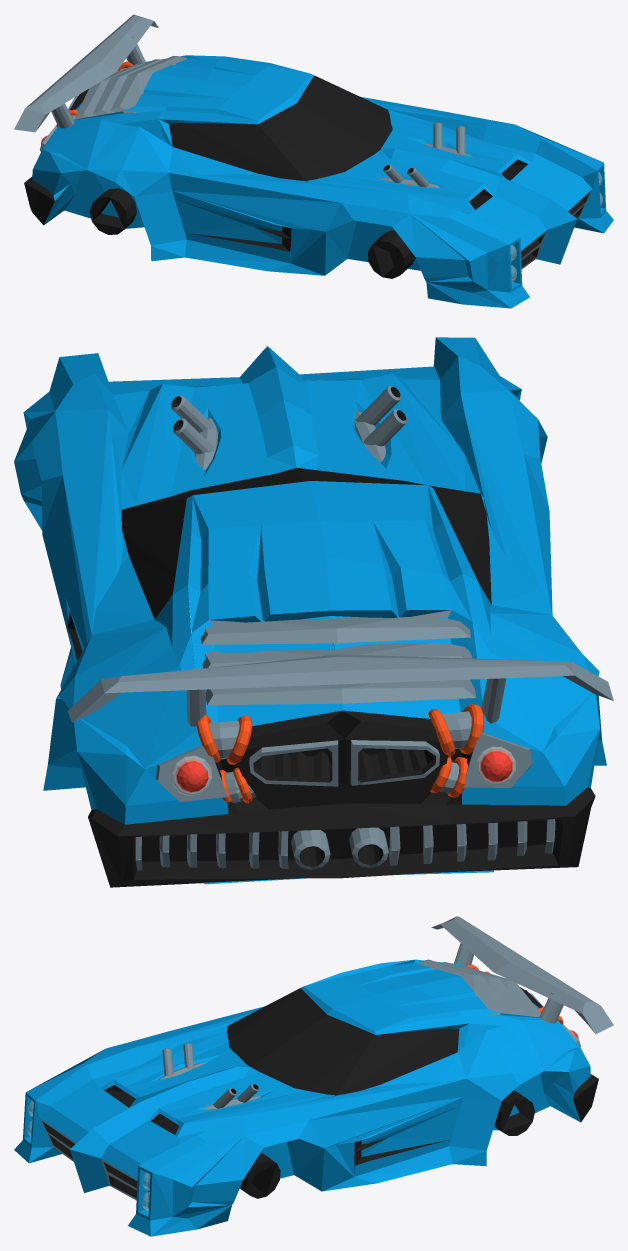
File: sports_car_1.glb
3 renders of one model, top to bottom at view 1: azimuth 30°, elevation 25°; view 2: azimuth 150°, elevation 25°; view 3: azimuth 270°, elevation 25°, orthographic. The views are drawn at different scales.
Parts seen in each view (by area): view 1: group1459548175, group2084868842, group1286568914, group1904881177, group1515205509, group1531621512; view 2: group2084868842, group1459548175, group1286568914, group1904881177, group1531621512, group1515205509, group2139139989, group1152140740, group1658709634, group410113312, group627141471, group1337605186 (+1 smaller); view 3: group2084868842, group1459548175, group1286568914, group1904881177, group1515205509, group1531621512.
Part boxes in pixels (x1,y1,x2,y2): group1459548175: [24, 73, 577, 308]; group2084868842: [85, 55, 613, 233]; group1286568914: [14, 14, 158, 132]; group1904881177: [111, 56, 186, 112]; group1515205509: [93, 59, 162, 115]; group1531621512: [74, 63, 143, 119]; group2084868842: [14, 346, 345, 887]; group1459548175: [268, 337, 606, 877]; group1286568914: [67, 654, 613, 722]; group1904881177: [200, 610, 470, 644]; group1531621512: [206, 679, 476, 705]; group1515205509: [202, 642, 472, 668]; group2139139989: [349, 827, 388, 867]; group1152140740: [291, 830, 330, 869]; group1658709634: [171, 756, 211, 795]; group410113312: [477, 747, 515, 784]; group627141471: [481, 678, 506, 723]; group1337605186: [209, 720, 239, 759]; group2084868842: [70, 976, 598, 1236]; group1459548175: [14, 959, 523, 1163]; group1286568914: [431, 916, 613, 1034]; group1904881177: [418, 959, 508, 1015]; group1515205509: [441, 962, 525, 1014]; group1531621512: [460, 965, 540, 1017].
Bounding box in the file's own units: 2.08 × 0.5652 × 2.38.
